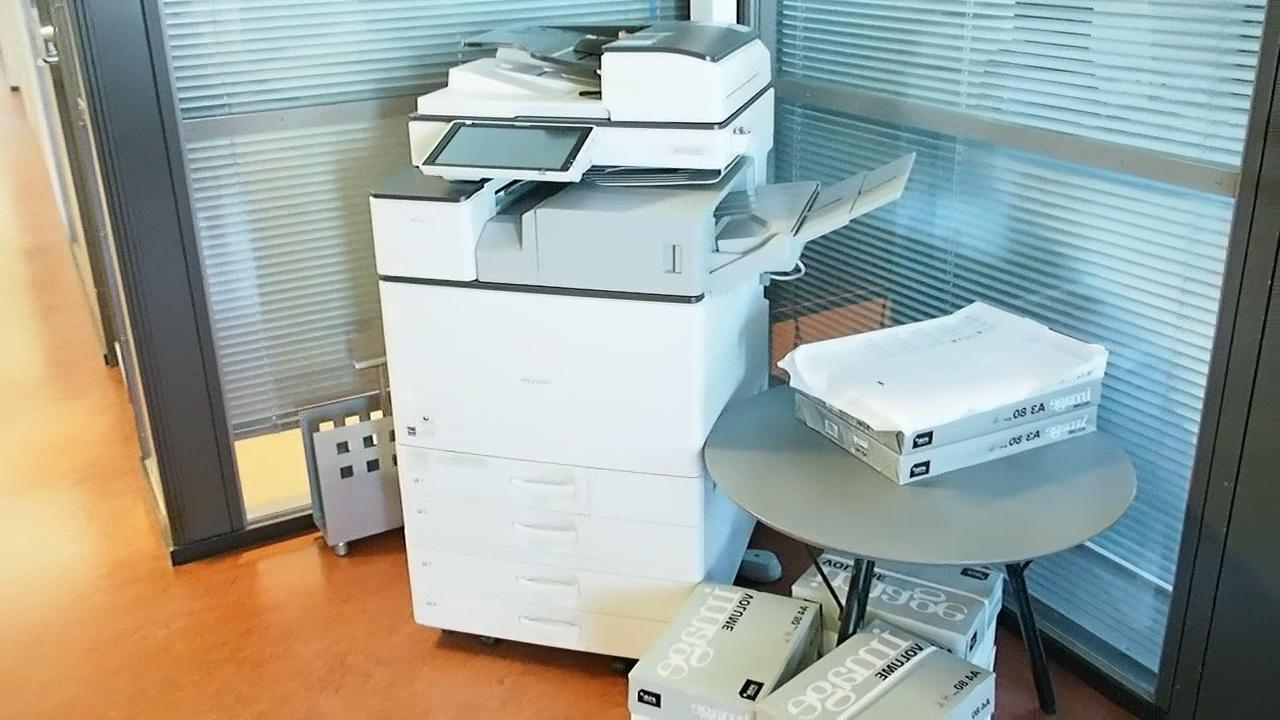printer: (367, 12, 778, 642)
